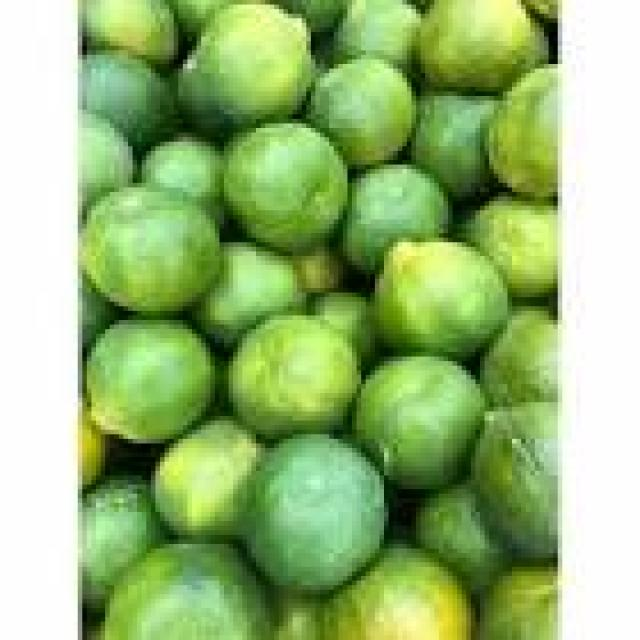orange: (242, 434, 384, 590), (82, 183, 215, 311), (352, 357, 480, 485), (178, 5, 311, 128), (87, 315, 210, 439), (229, 315, 357, 434), (224, 123, 343, 247), (375, 242, 503, 357), (105, 544, 265, 635), (320, 544, 471, 635), (151, 416, 261, 535), (471, 402, 553, 558), (416, 0, 544, 87), (306, 59, 411, 165), (192, 242, 302, 343), (82, 475, 165, 608), (343, 165, 448, 270), (416, 485, 507, 590), (462, 192, 553, 297), (82, 50, 174, 146), (411, 91, 494, 197), (489, 64, 553, 197), (480, 306, 553, 402), (142, 137, 219, 219), (334, 0, 416, 69), (82, 0, 174, 59), (475, 567, 553, 635), (78, 110, 133, 206), (311, 293, 375, 366)
